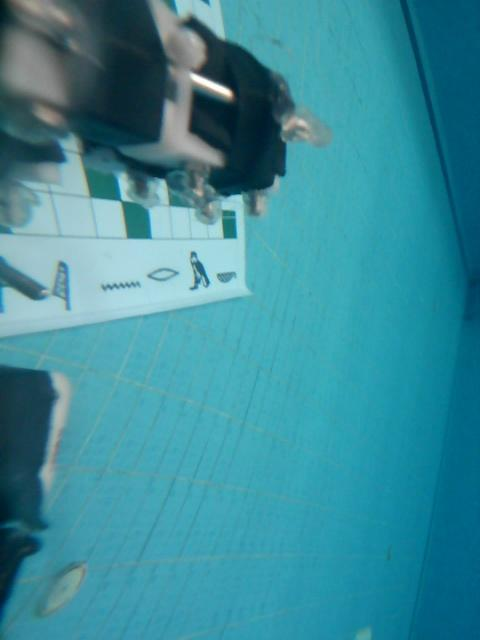Basket: (215, 269, 238, 284)
Mouth: (146, 267, 180, 283)
Owl: (187, 250, 213, 291)
Reed: (52, 259, 72, 313)
Water: (101, 281, 143, 293)
